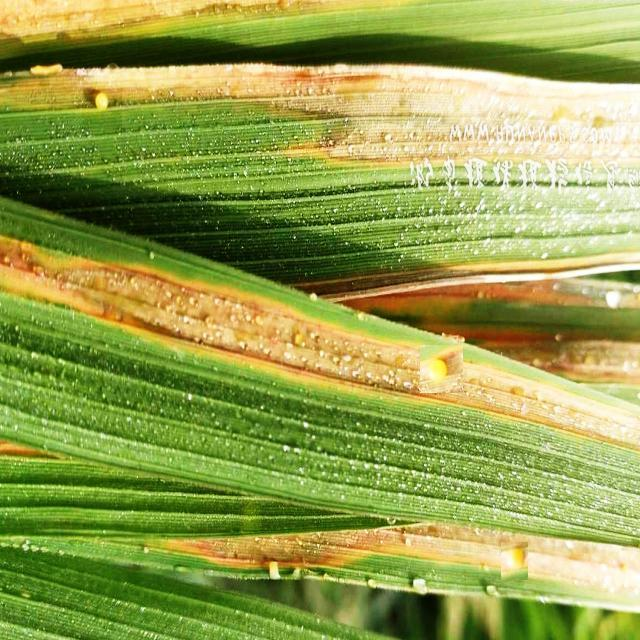whorl-maggot: (420, 345, 463, 393), (83, 83, 123, 129), (501, 542, 528, 580)
